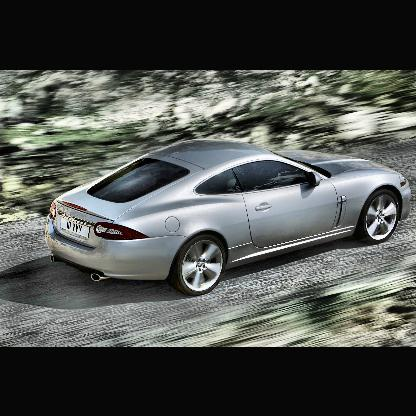Jaguar XK XKR 2012: (45, 138, 413, 296)
